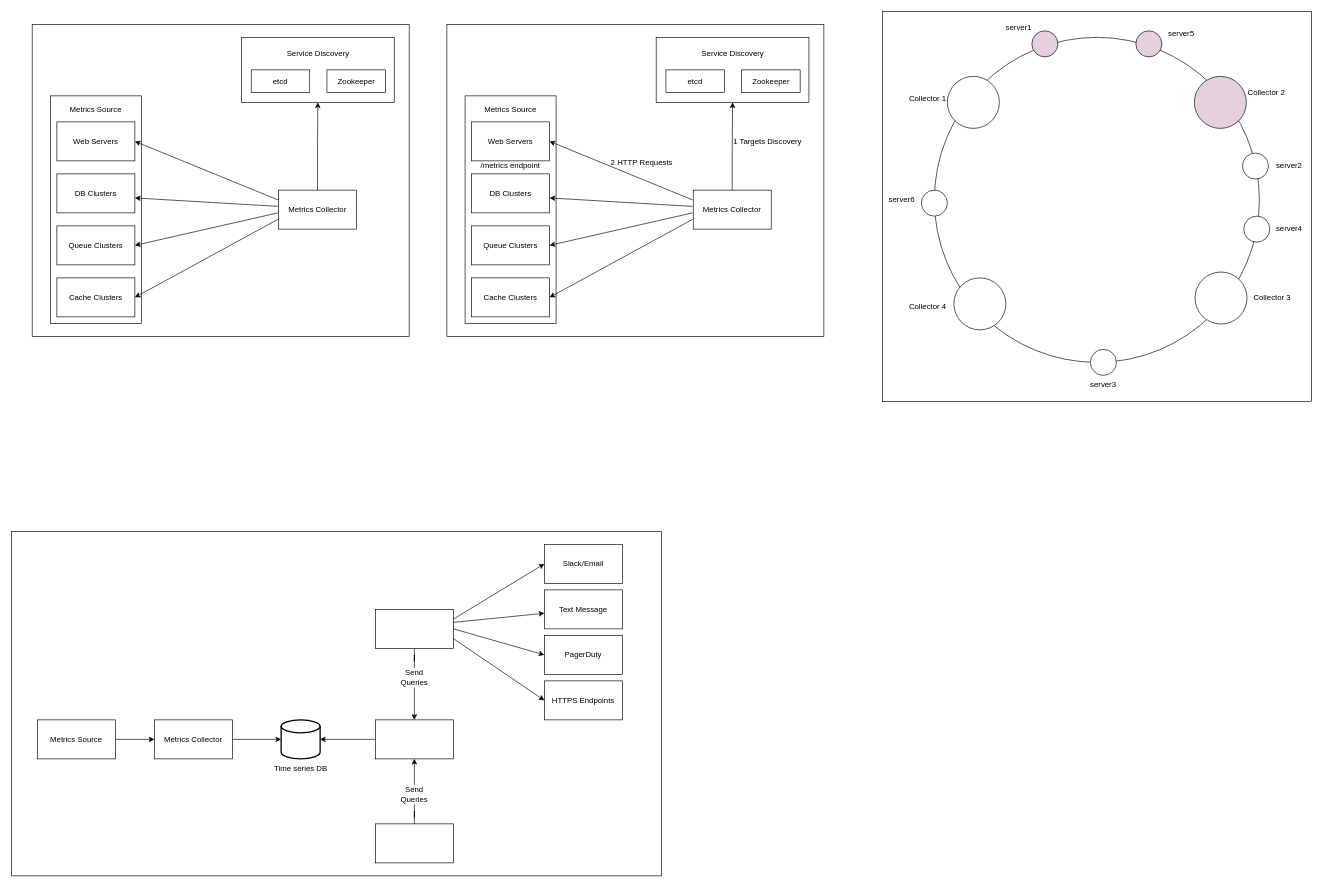
The diagram is 1323 pixels wide and 887 high, and some of its shapes have lost their labels. Each missing label, with the centre of its shape:
"Alerting System" goes at pixel 414 628.
"Query Service" goes at pixel 414 739.
"Visualization System" goes at pixel 414 843.
